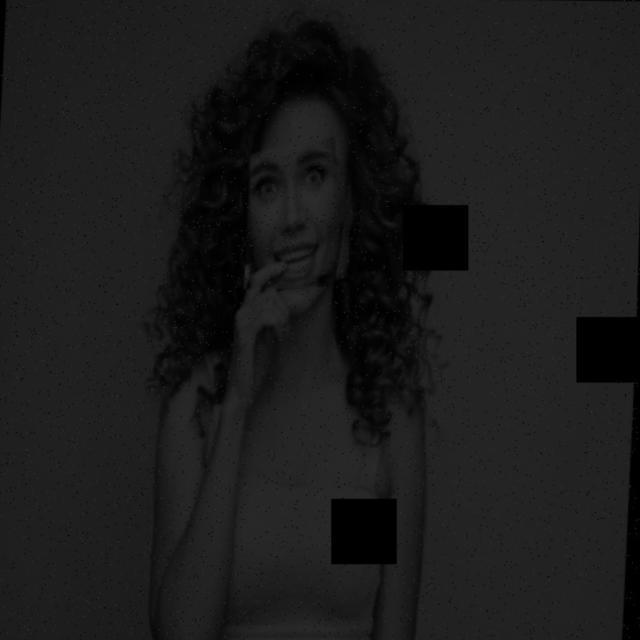happy: (166, 95, 447, 353)
